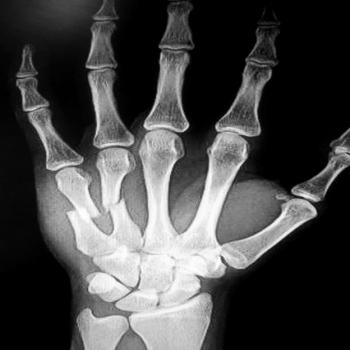Fracture: (57, 202, 100, 223), (104, 193, 132, 215)
